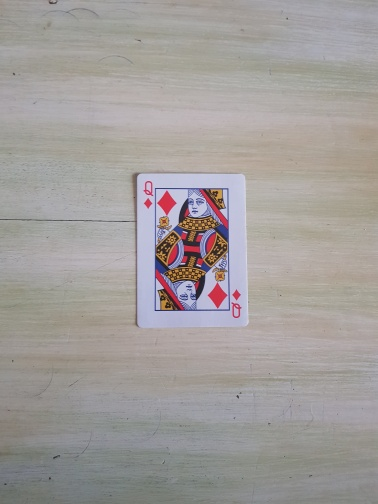queen: (135, 172, 251, 330)
